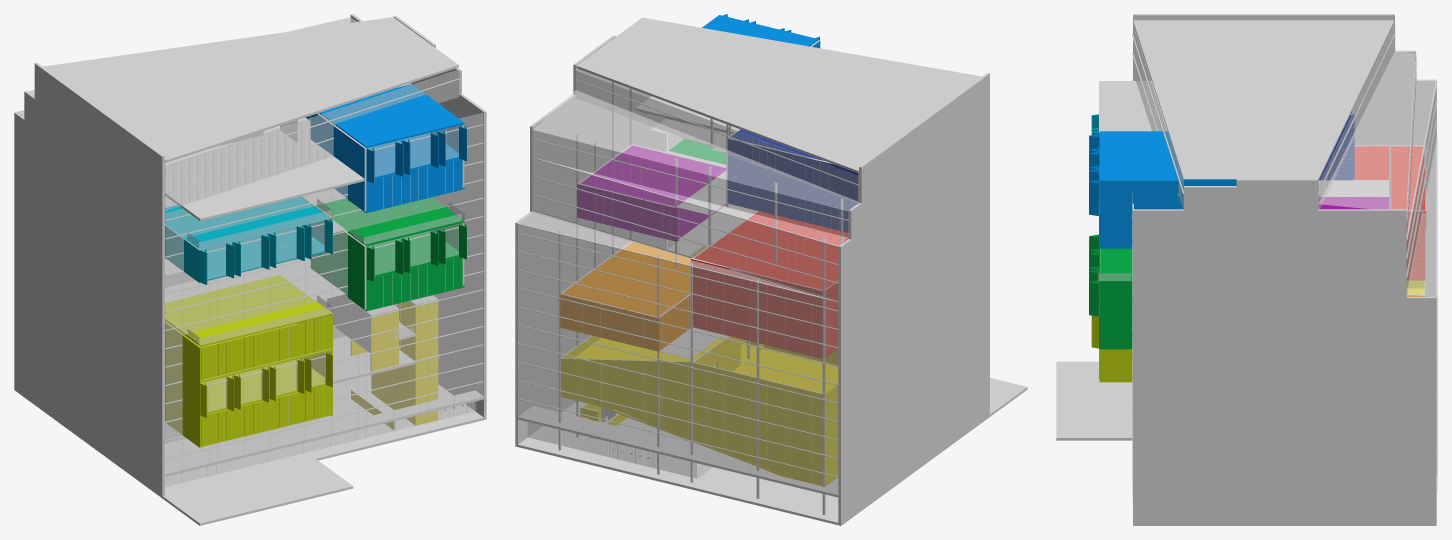
Rendered from GLB05.glb.
3 views of the same model, side by side, from view 1: azimuth 30°, elevation 25°; view 2: azimuth 150°, elevation 25°; view 3: azimuth 270°, elevation 25° (orthographic). The views are drawn at different scales.
Parts seen in each view (by area): view 1: skp4582, Concrete,, Glass, Metal Deck, Glass, Co0, Pared Made, Aluminium, Metal - Pe, Glass, Col, Default Wa, Concreto A; view 2: Glass, Concrete,, skp4582, Paneles M0, Default Fl, Aluminium, Paneles M2, Metal - Ac, Metal - Pe, Paneles Me, Paneles M1, Default Wa (+3 smaller); view 3: Concrete,, skp4582, Glass, Paneles M0, Aluminium, Metal Deck, Paneles M2, Metal - Pe, Default Fl, Metal - Ac.
Part boxes in pixels (<box>): skp4582: <box>14,17,486,525</box>; Concrete,: <box>14,14,486,495</box>; Glass: <box>18,17,483,486</box>; Metal Deck: <box>199,125,466,445</box>; Glass, Co0: <box>202,125,462,414</box>; Pared Made: <box>351,301,438,429</box>; Aluminium: <box>17,78,483,459</box>; Metal - Pe: <box>165,189,345,302</box>; Glass, Col: <box>200,218,330,279</box>; Default Wa: <box>165,83,464,447</box>; Concreto A: <box>165,83,408,443</box>; Glass: <box>517,70,858,495</box>; Concrete,: <box>515,35,989,523</box>; skp4582: <box>515,15,1027,525</box>; Paneles M0: <box>691,211,848,358</box>; Default Fl: <box>563,145,726,422</box>; Aluminium: <box>517,79,858,477</box>; Paneles M2: <box>728,139,858,232</box>; Metal - Ac: <box>558,81,858,514</box>; Metal - Pe: <box>650,118,756,358</box>; Paneles Me: <box>559,294,690,351</box>; Paneles M1: <box>577,184,725,241</box>; Default Wa: <box>561,40,837,423</box>; Concrete,: <box>1133,14,1436,523</box>; skp4582: <box>1056,20,1436,525</box>; Glass: <box>1098,25,1437,502</box>; Paneles M0: <box>1354,146,1426,280</box>; Aluminium: <box>1089,34,1437,484</box>; Metal Deck: <box>1089,114,1099,379</box>; Paneles M2: <box>1319,114,1354,180</box>; Metal - Pe: <box>1318,180,1388,195</box>; Default Fl: <box>1319,197,1425,296</box>; Metal - Ac: <box>1318,64,1427,296</box>.
Bounding box in the file's own units: 0.9479 × 0.9546 × 0.9422.
